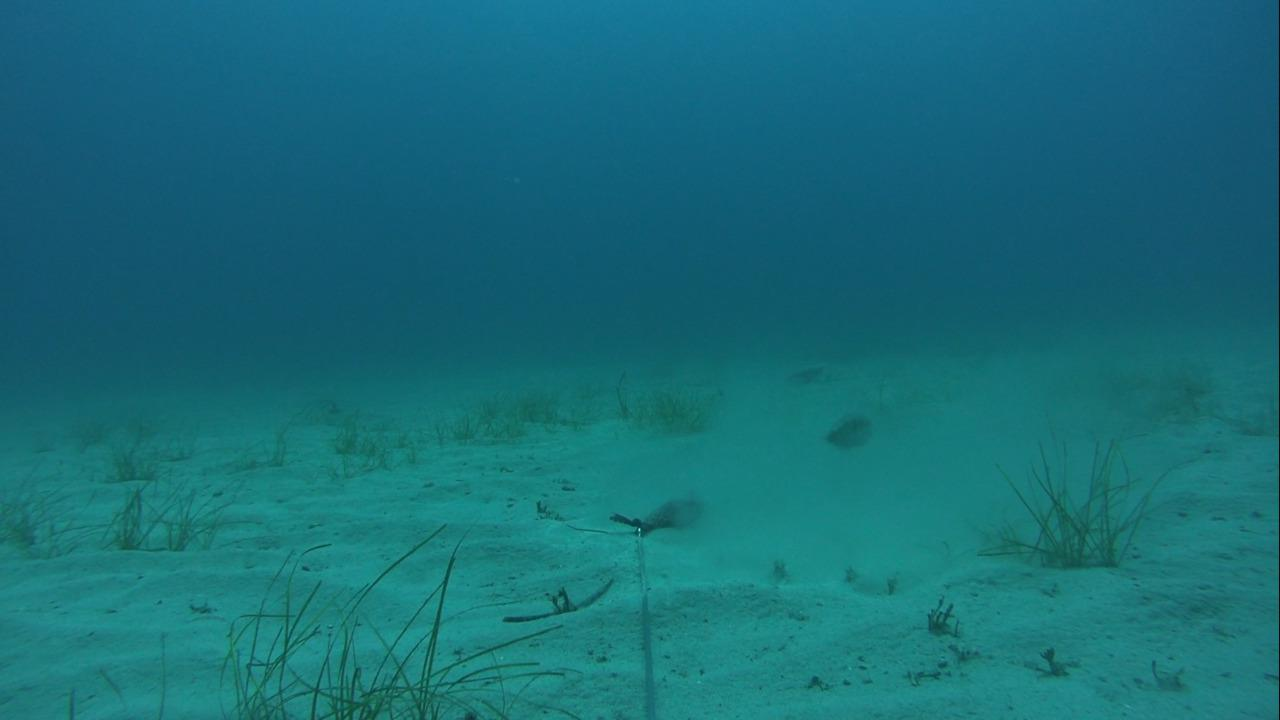raor: (815, 408, 875, 451)
